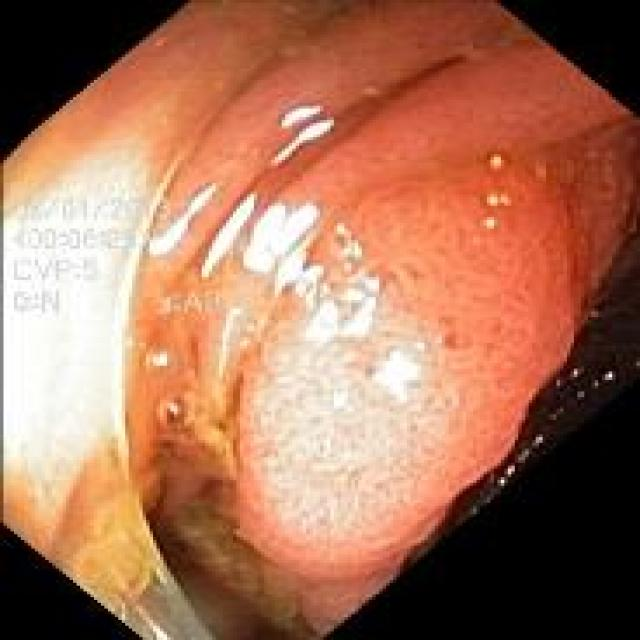Polyps: (239, 166, 589, 576)
